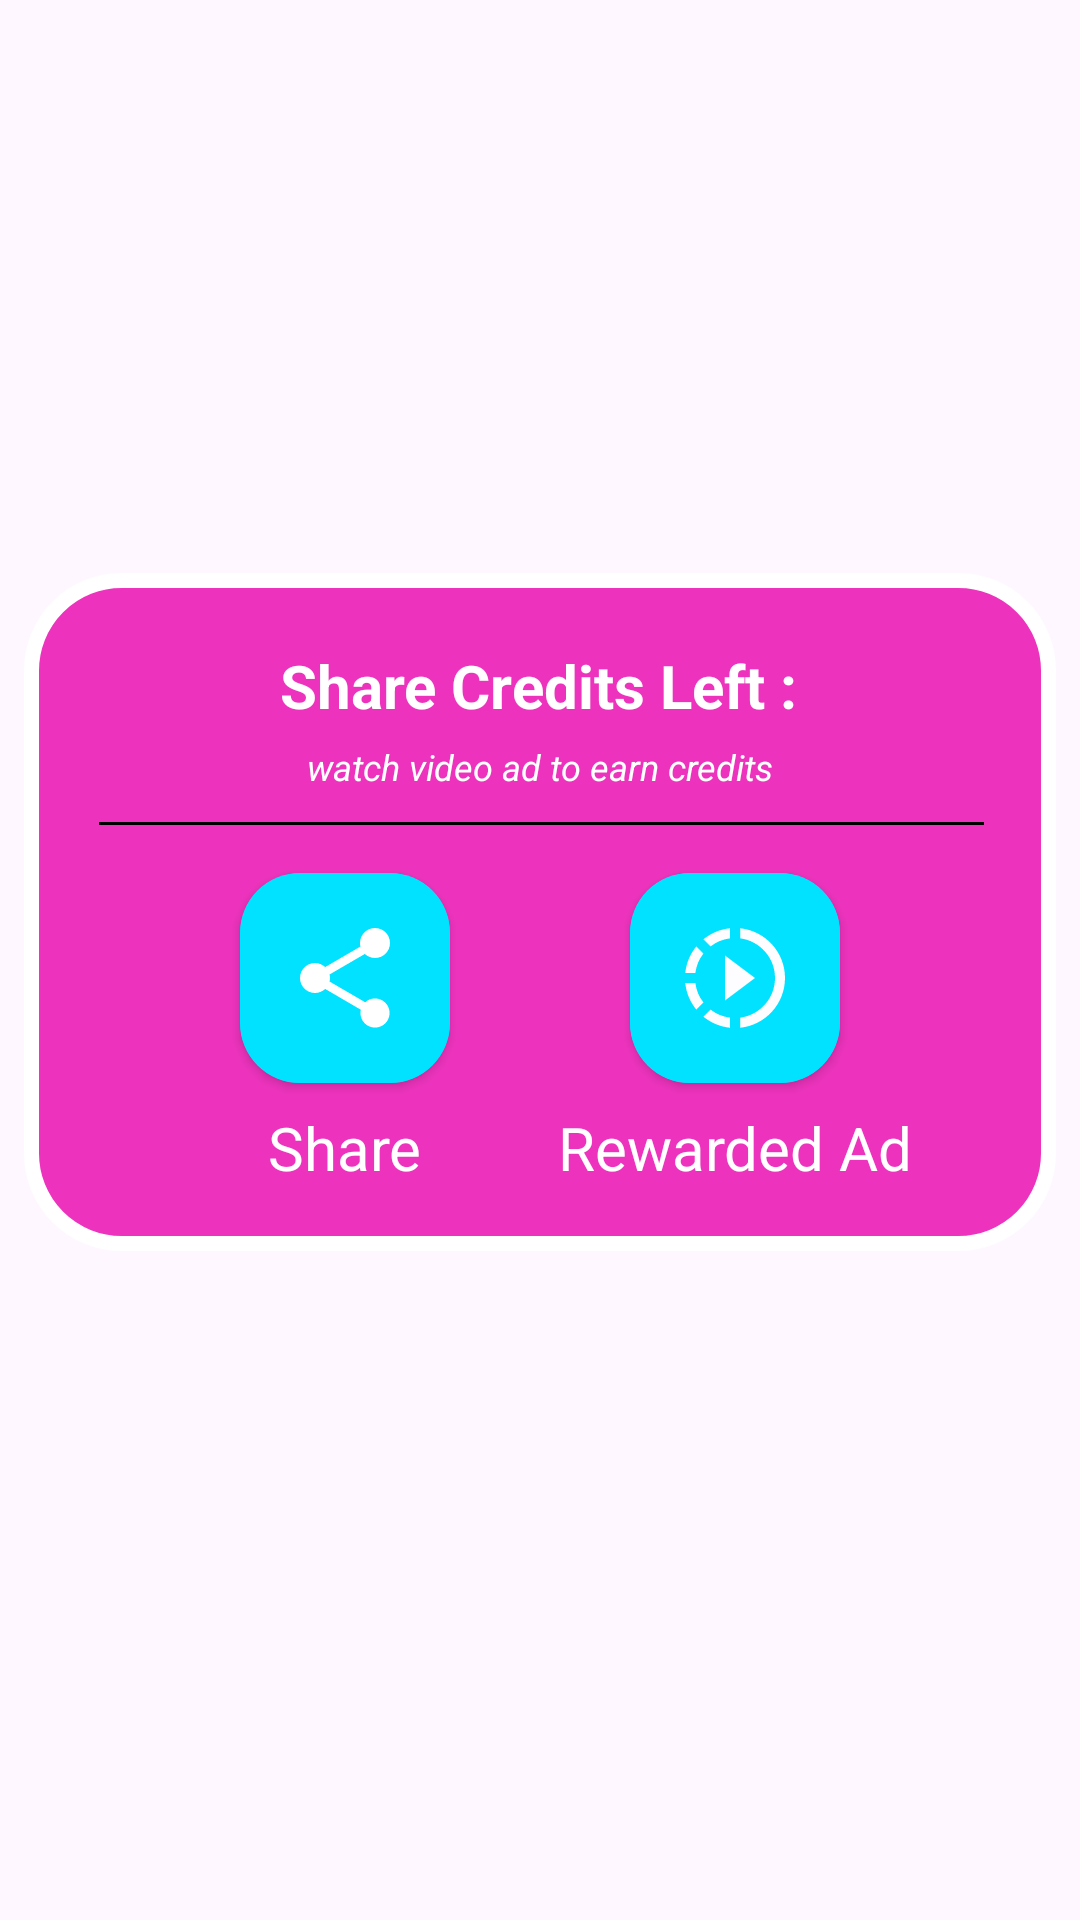

Named icons in this screenshot (1080px x 1920px) and their bounding boxes, (x1, y1, x2, y2):
Watch Video to Earn Share Points: (630, 873, 840, 1083)
